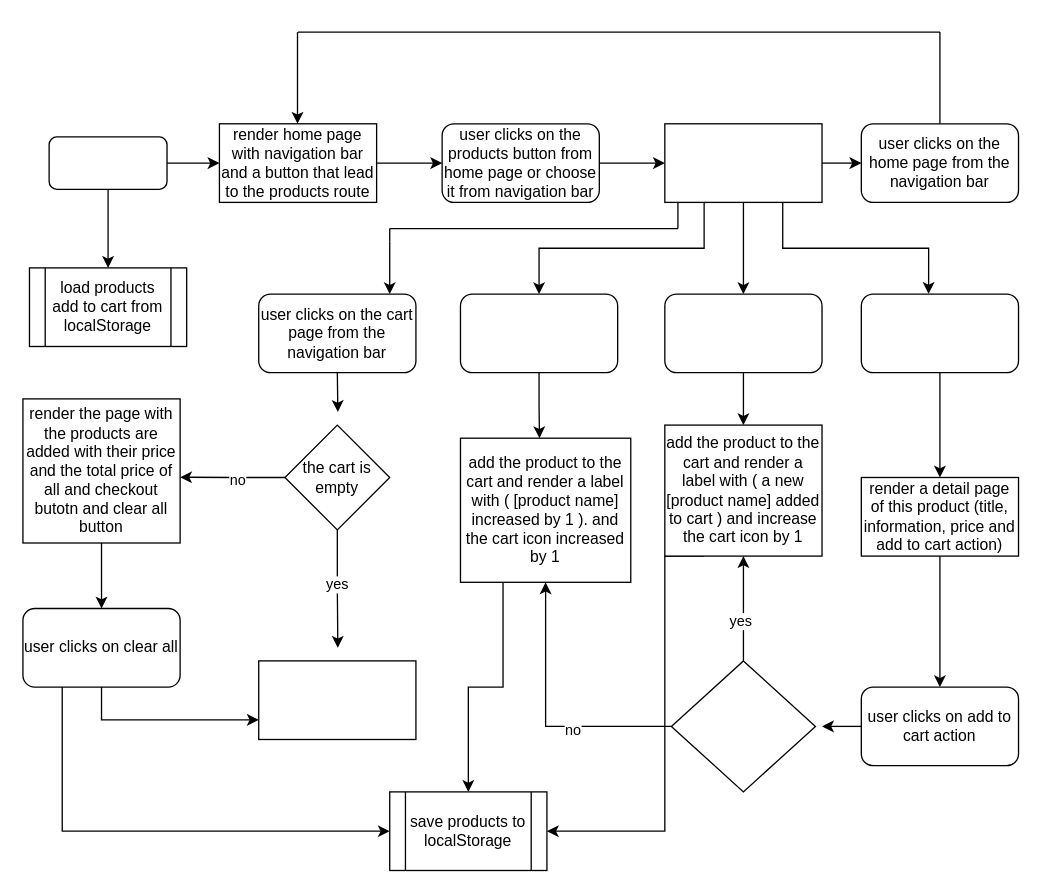
Some shapes in this 1041 by 893 pixel diagram are drawn without their labels. Each missing label, with the centre of its shape:
"page loads" belongs at pixel 107 162.
"render a label with the cart is empty and link to product page" belongs at pixel 336 699.
"render products page the cards that display the image and information about it" belongs at pixel 743 162.
"the cart is the first time added" belongs at pixel 742 726.
"user clicks on the add button of a new product" belongs at pixel 743 333.
"user clicks on the add button on the same product" belongs at pixel 538 333.
"user clicks the card of a product" belongs at pixel 939 333.
